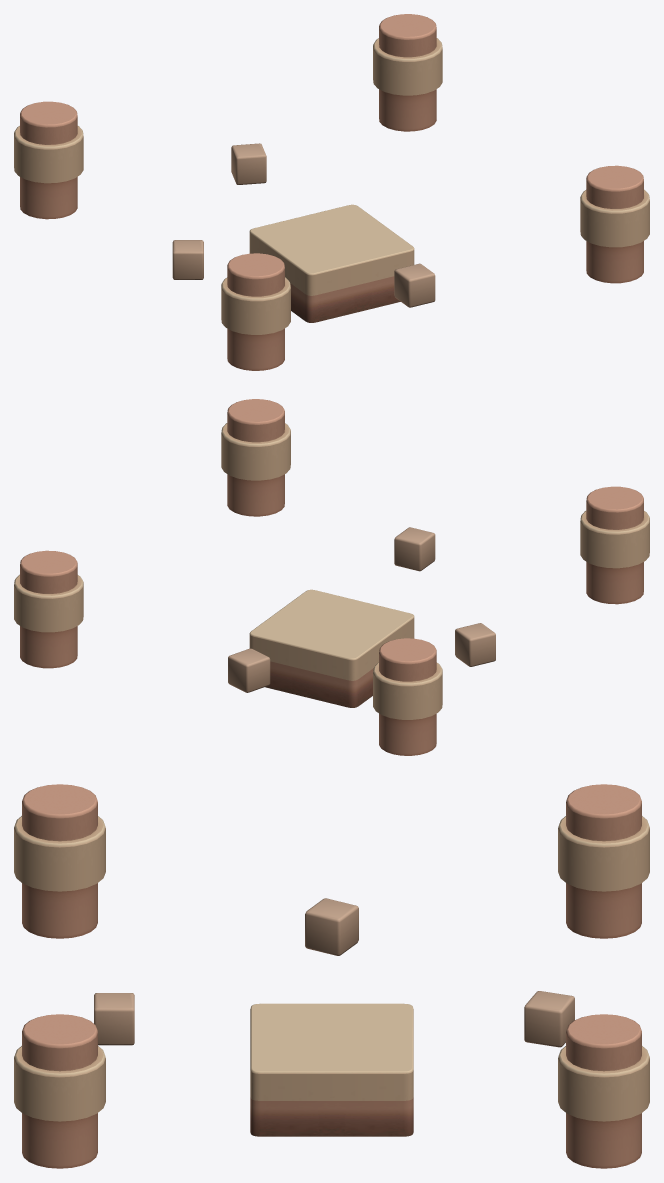
Rendered from Props.fbx.
The picture shows the model from 3 angles, top to bottom: view 1: azimuth 30°, elevation 25°; view 2: azimuth 150°, elevation 25°; view 3: azimuth 270°, elevation 25°; orthographic projection. The views are drawn at different scales.
Visible parts, largest first — view 1: Box02, Cylinder-2 (3), Cylinder-2 (1), Cylinder-2, Cylinder-2 (2), Box1-5 (7), Box1-5 (8), Box1-5 (9); view 2: Box02, Cylinder-2, Cylinder-2 (2), Cylinder-2 (3), Cylinder-2 (1), Box1-5 (8), Box1-5 (7), Box1-5 (9); view 3: Box02, Cylinder-2 (1), Cylinder-2 (2), Cylinder-2, Cylinder-2 (3), Box1-5 (9), Box1-5 (8), Box1-5 (7).
Part boxes in pixels (left/top/right/bottom): Box02: left=249, top=204, right=414, bottom=322; Cylinder-2 (3): left=580, top=165, right=649, bottom=283; Cylinder-2 (1): left=221, top=253, right=290, bottom=370; Cylinder-2: left=373, top=14, right=442, bottom=131; Cylinder-2 (2): left=14, top=101, right=83, bottom=219; Box1-5 (7): left=394, top=263, right=435, bottom=307; Box1-5 (8): left=231, top=143, right=266, bottom=184; Box1-5 (9): left=172, top=240, right=203, bottom=279; Box02: left=249, top=589, right=414, bottom=707; Cylinder-2: left=14, top=550, right=83, bottom=668; Cylinder-2 (2): left=373, top=638, right=442, bottom=755; Cylinder-2 (3): left=221, top=399, right=290, bottom=516; Cylinder-2 (1): left=580, top=486, right=649, bottom=604; Box1-5 (8): left=228, top=648, right=270, bottom=692; Box1-5 (7): left=394, top=527, right=435, bottom=571; Box1-5 (9): left=455, top=623, right=495, bottom=666; Box02: left=250, top=1003, right=413, bottom=1136; Cylinder-2 (1): left=14, top=784, right=105, bottom=938; Cylinder-2 (2): left=558, top=784, right=649, bottom=938; Cylinder-2: left=558, top=1014, right=649, bottom=1168; Cylinder-2 (3): left=14, top=1014, right=105, bottom=1168; Box1-5 (9): left=305, top=898, right=358, bottom=955; Box1-5 (8): left=524, top=991, right=574, bottom=1047; Box1-5 (7): left=94, top=993, right=134, bottom=1045.
Bounding box in the file's own units: 23.38 × 7.62 × 23.38.
Materials: 3 (3 with a texture image).
